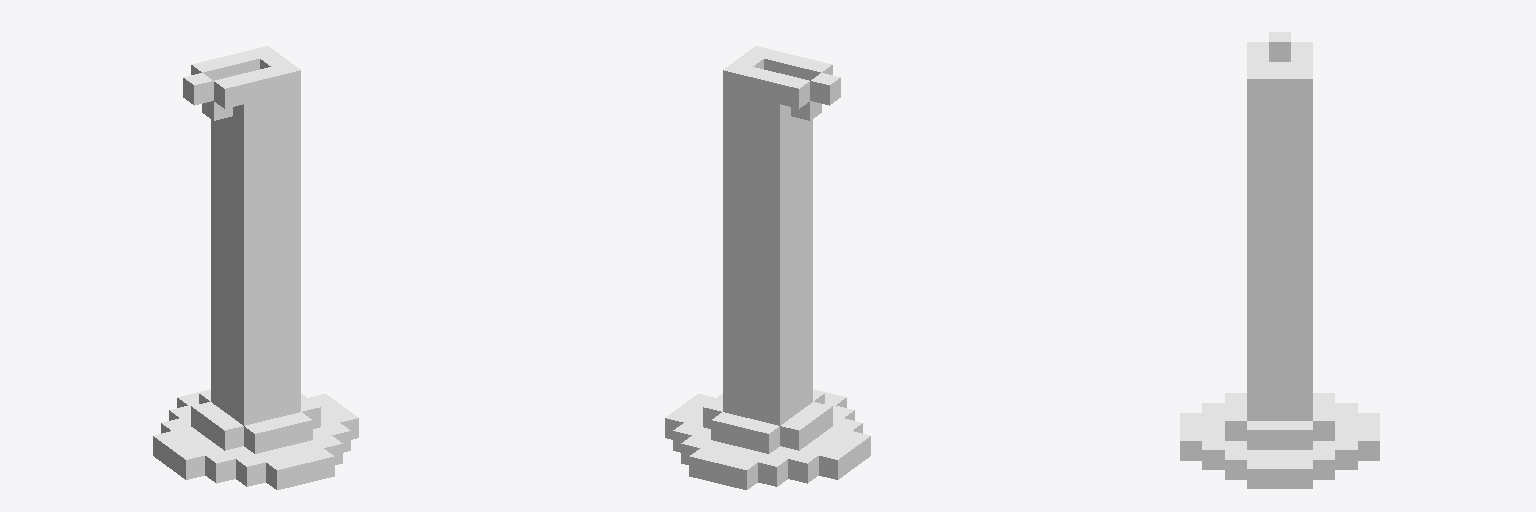
File: eprouvette.obj
3 views of the same model, side by side, from view 1: azimuth 30°, elevation 25°; view 2: azimuth 150°, elevation 25°; view 3: azimuth 270°, elevation 25° (orthographic).
Parts seen in each view (by area): view 1: eprouvette; view 2: eprouvette; view 3: eprouvette.
Boxes of the visible parts, x1,y1,x2,y2 form: eprouvette: [153, 46, 358, 489]; eprouvette: [665, 46, 870, 489]; eprouvette: [1180, 32, 1379, 488].
Size of the model in its own units: 9 by 19 by 9.